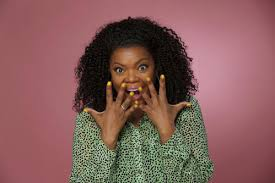black_female: (74, 19, 195, 128)
